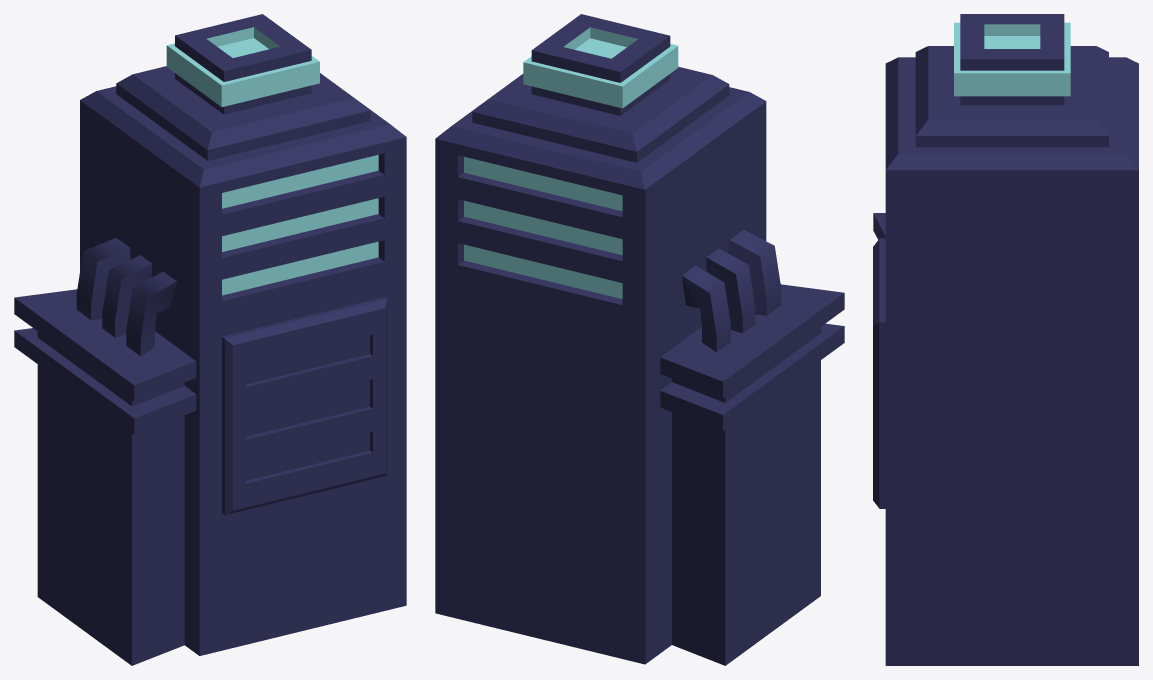
The model's file is Building_2.fbx.
3 renders of one model, left to right at view 1: azimuth 30°, elevation 25°; view 2: azimuth 150°, elevation 25°; view 3: azimuth 270°, elevation 25°, orthographic. The views are drawn at different scales.
Visible parts, largest first — view 1: pCube31; view 2: pCube31; view 3: pCube31.
Boxes of the visible parts, <box> form: pCube31: <box>14,14,406,665</box>; pCube31: <box>435,14,844,665</box>; pCube31: <box>873,14,1138,665</box>.
Bounding box in the file's own units: 6.72 × 12.55 × 5.25.
